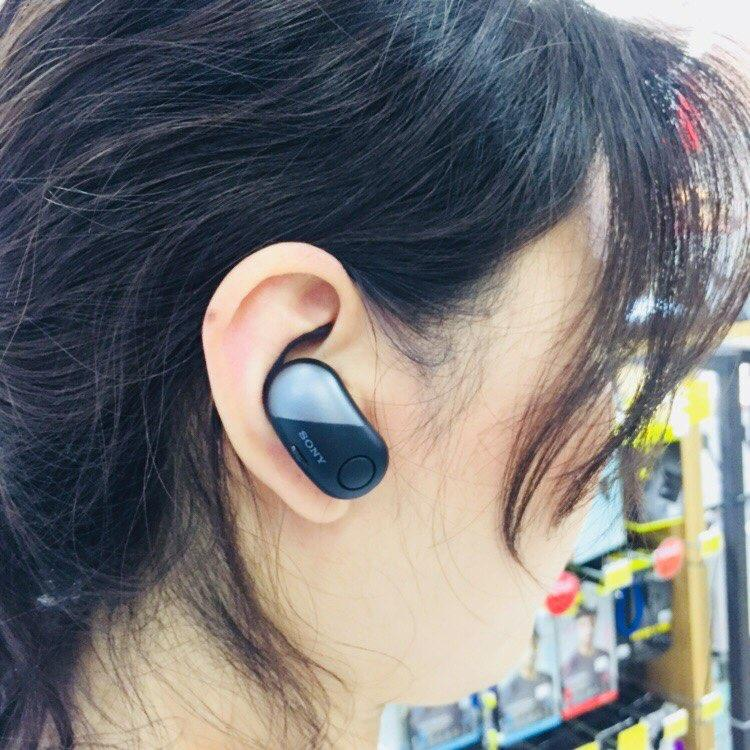earphone: (256, 355, 395, 506)
